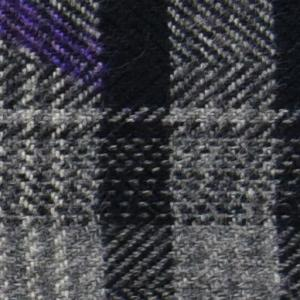Stain: (1, 1, 121, 101)
